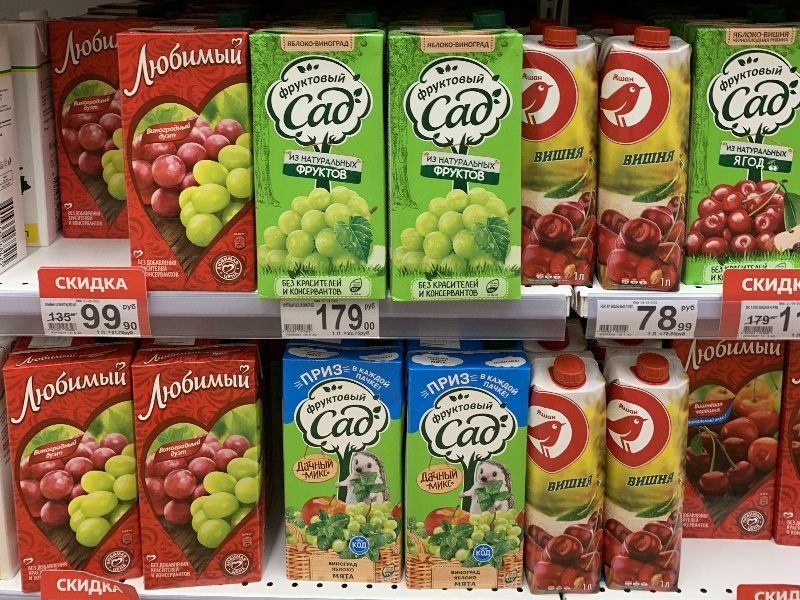juice: (109, 13, 268, 299), (2, 332, 154, 593), (266, 335, 416, 590), (126, 339, 275, 592), (394, 337, 529, 595), (594, 23, 700, 296), (512, 24, 607, 293), (520, 346, 614, 598), (600, 350, 692, 598)
